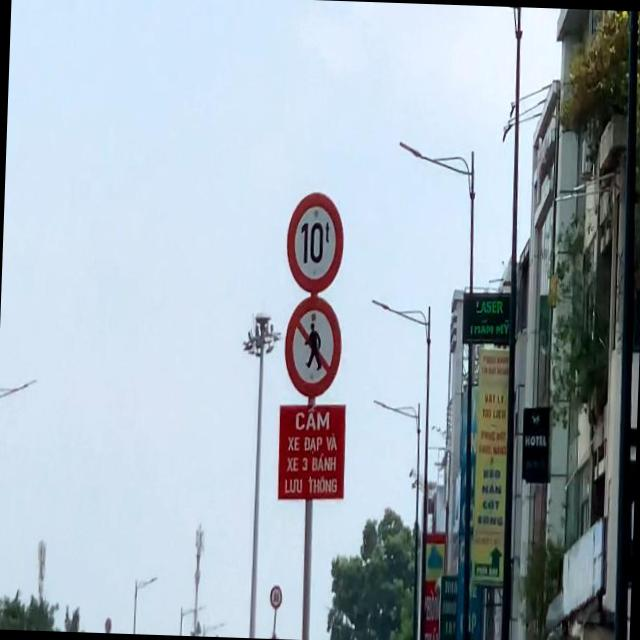P-112: (282, 296, 340, 398)
P-115: (284, 191, 344, 293)
